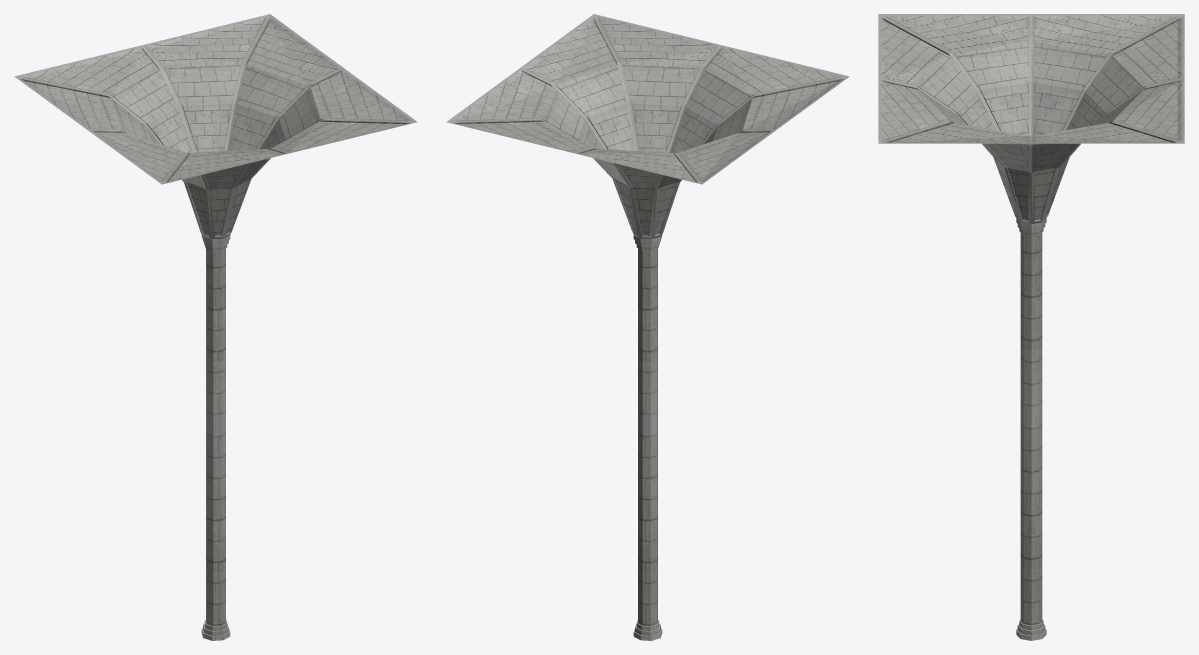
Rendered from castle-arch1.obj.
3 views of the same model, side by side, from view 1: azimuth 30°, elevation 25°; view 2: azimuth 150°, elevation 25°; view 3: azimuth 270°, elevation 25° (orthographic). The views are drawn at different scales.
Visible parts, largest first — view 1: castle-arch1_Circle.001; view 2: castle-arch1_Circle.001; view 3: castle-arch1_Circle.001.
Part boxes in pixels (left/top/right/bottom): castle-arch1_Circle.001: left=14, top=14, right=417, bottom=640; castle-arch1_Circle.001: left=446, top=14, right=849, bottom=640; castle-arch1_Circle.001: left=878, top=14, right=1184, bottom=640.
Size of the model in its own units: 2 by 4 by 2.
1 material, 1 textured.
